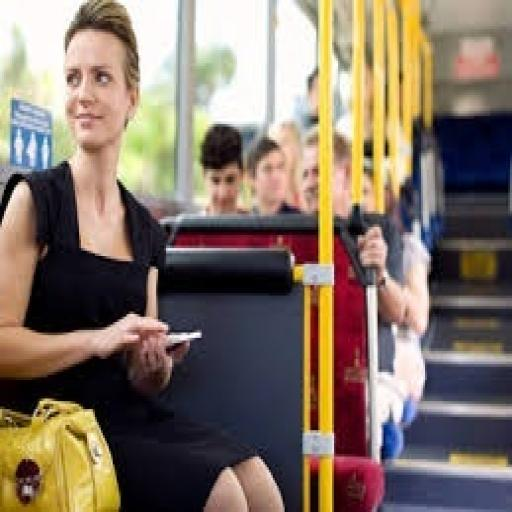sitting: (0, 0, 288, 509)
